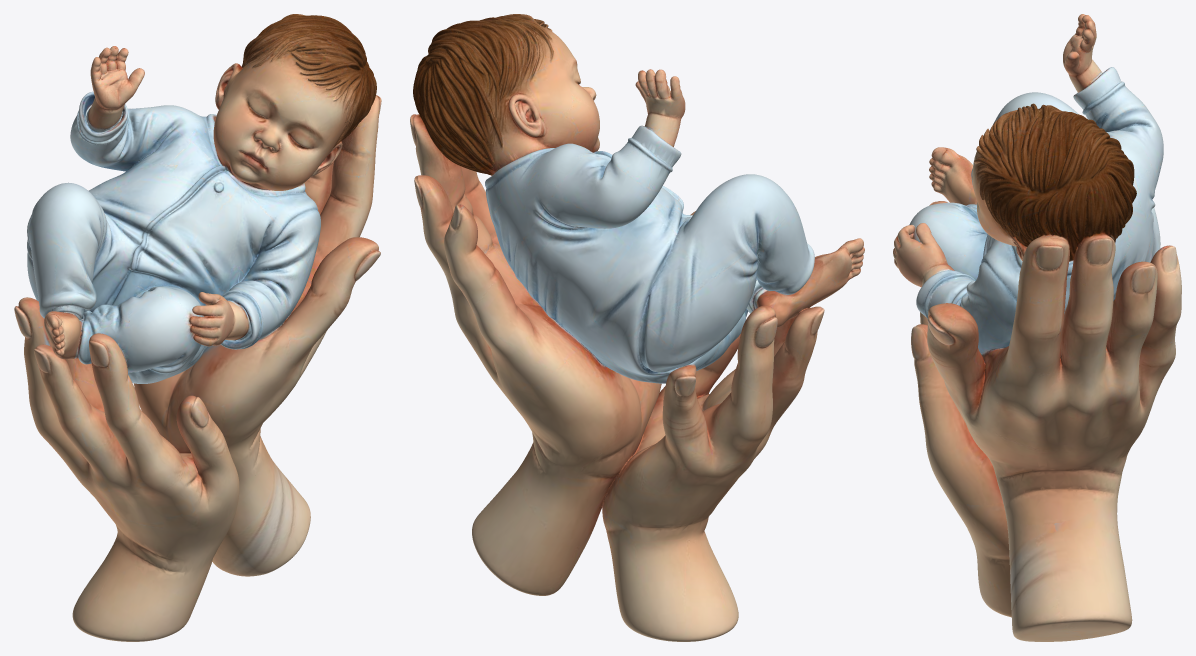
The model's file is cradled_in_love.glb.
3 renders of one model, left to right at view 1: azimuth 30°, elevation 25°; view 2: azimuth 150°, elevation 25°; view 3: azimuth 270°, elevation 25°, orthographic. The views are drawn at different scales.
Bounding box in the file's own units: 1.37 × 1.9 × 0.859.
Materials: 1 (1 with a texture image).
